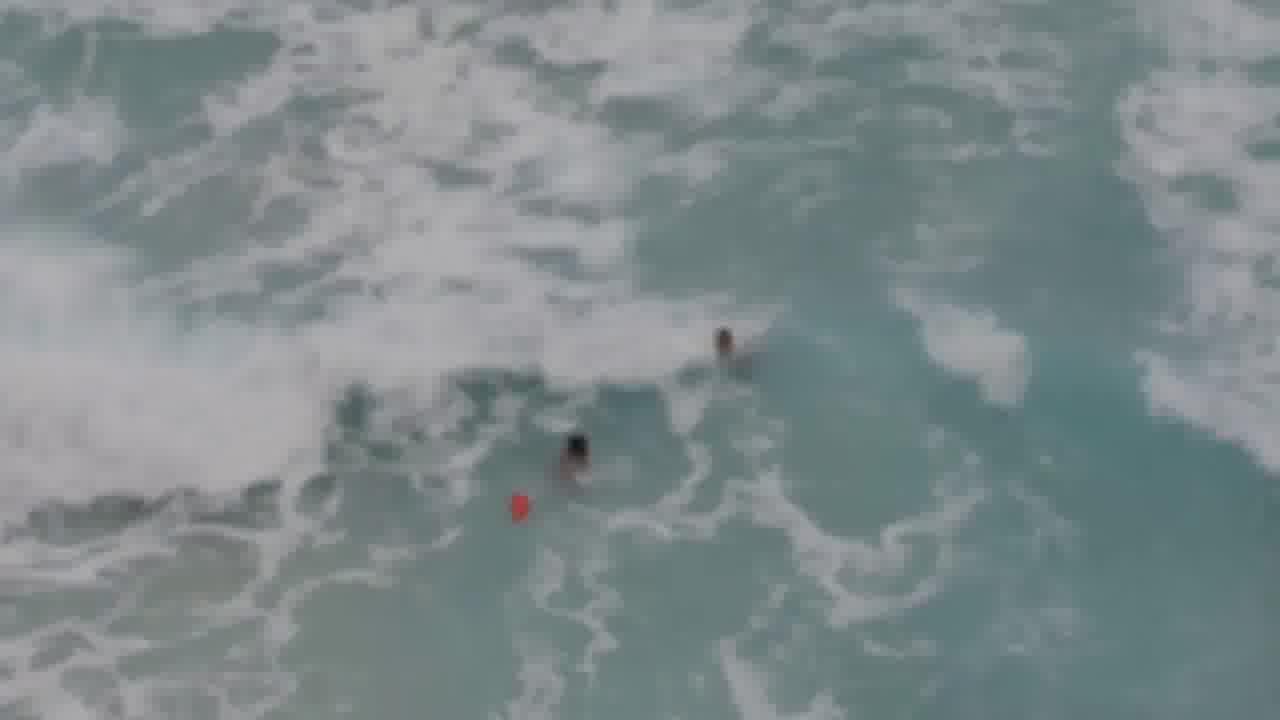swimmer: (700, 311, 743, 367), (551, 422, 596, 471)
